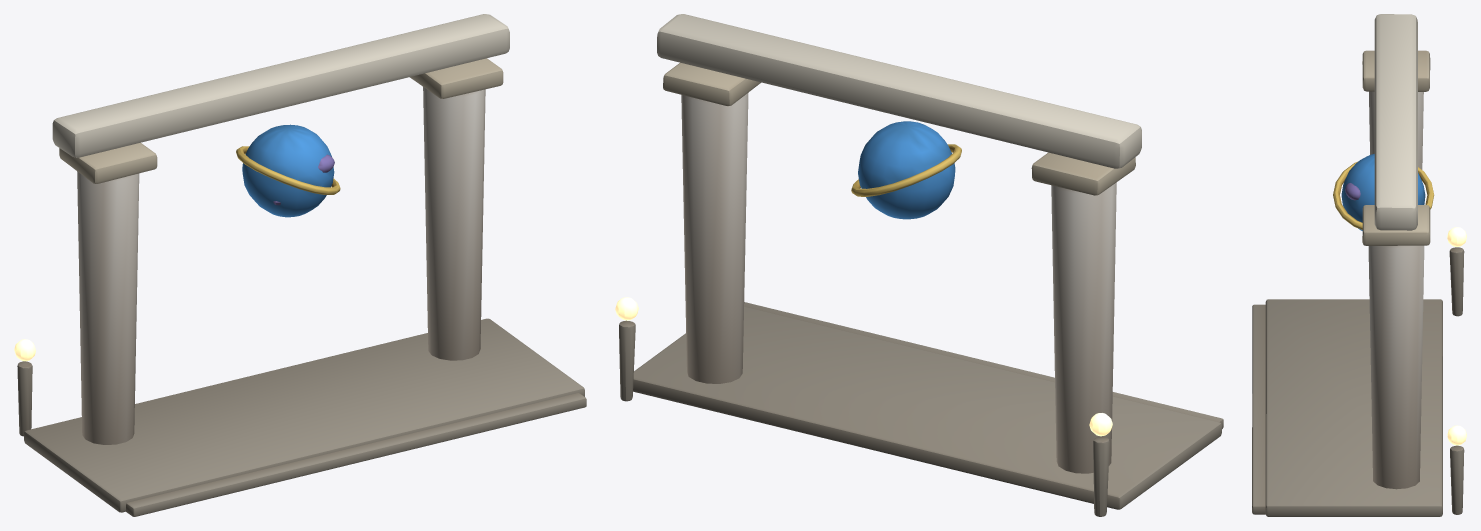
The picture shows the model from 3 angles, left to right: view 1: azimuth 30°, elevation 25°; view 2: azimuth 150°, elevation 25°; view 3: azimuth 270°, elevation 25°; orthographic projection. The views are drawn at different scales.
Parts seen in each view (by area): view 1: gate_f9f4b440; view 2: gate_f9f4b440; view 3: gate_f9f4b440.
Boxes of the visible parts, x1,y1,x2,y2 form: gate_f9f4b440: (14, 14, 586, 516); gate_f9f4b440: (615, 14, 1223, 516); gate_f9f4b440: (1252, 14, 1466, 516).
Size of the model in its own units: 5.82 by 3.99 by 2.54.
